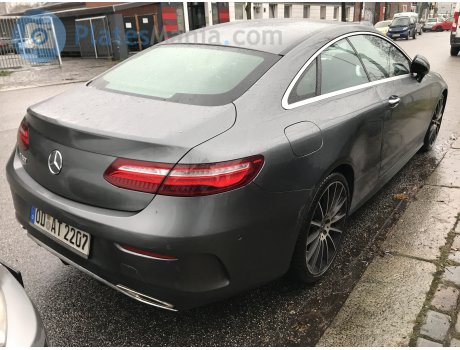License Plates: (23, 202, 92, 247)
